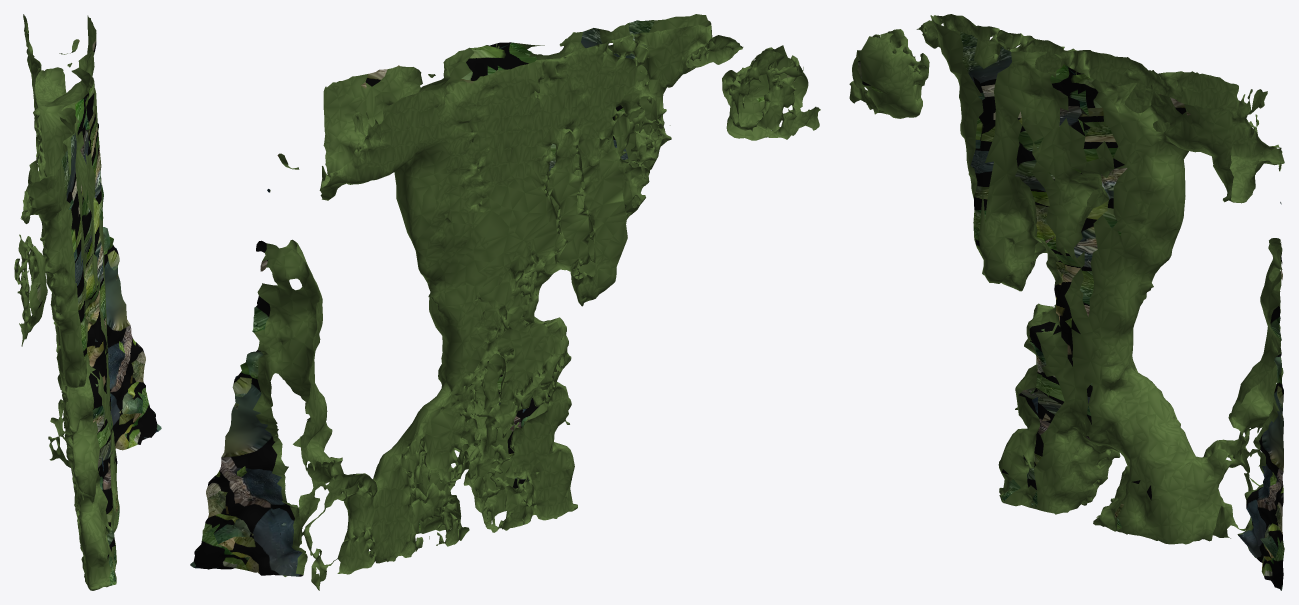
File: patria4.obj
The picture shows the model from 3 angles, left to right: view 1: azimuth 30°, elevation 25°; view 2: azimuth 150°, elevation 25°; view 3: azimuth 270°, elevation 25°; orthographic projection. The views are drawn at different scales.
Size of the model in its own units: 3.35 by 4.03 by 3.62.
